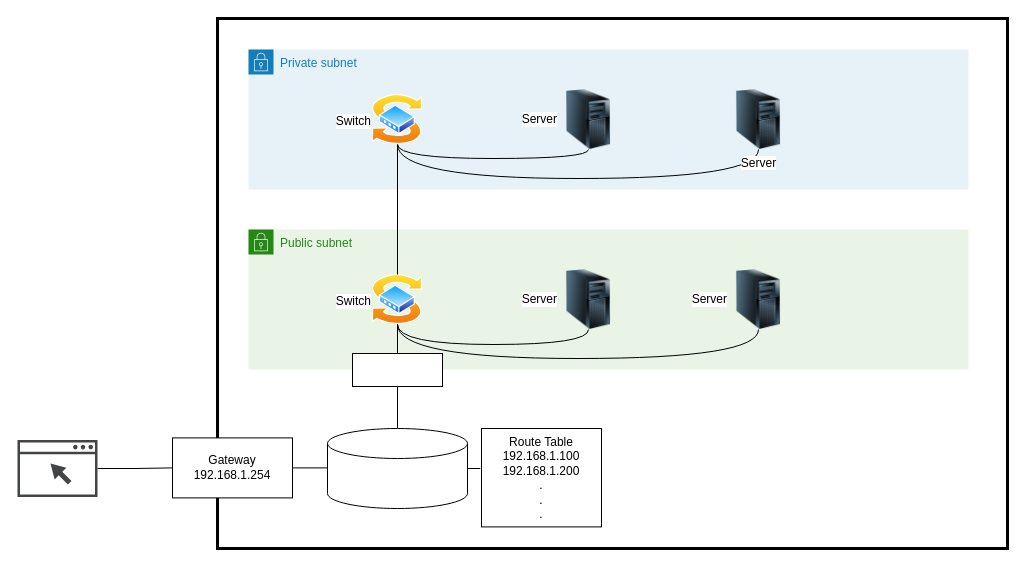
This 1026x567 diagram has some shape labels left out. Each missing label, with the box of its shape:
NACL: (352, 352, 442, 386)
Router: (326, 428, 468, 508)
